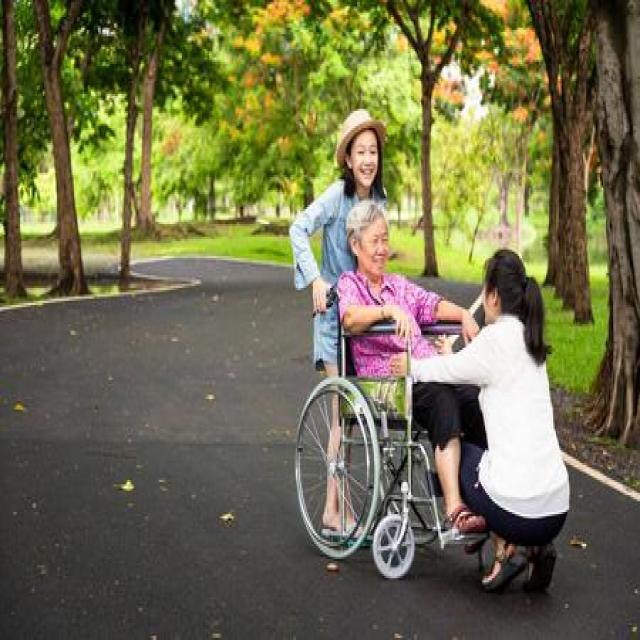wheelchairs: (291, 268, 495, 585)
